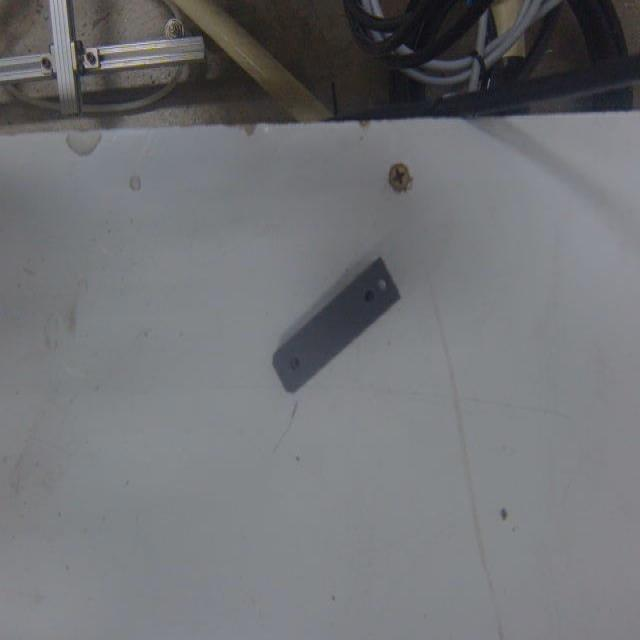grey: (270, 255, 401, 399)
head: (288, 355, 300, 374)
